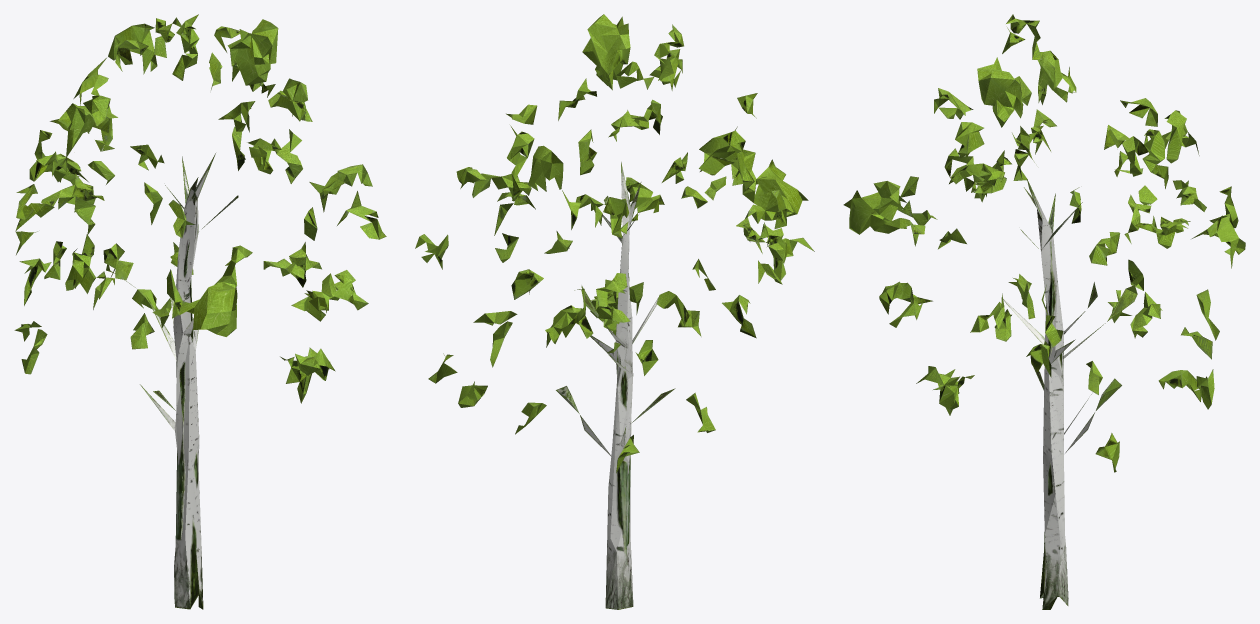
File: tree_birch.glb
3 views of the same model, side by side, from view 1: azimuth 30°, elevation 25°; view 2: azimuth 150°, elevation 25°; view 3: azimuth 270°, elevation 25° (orthographic). The views are drawn at different scales.
Size of the model in its own units: 1.03 by 1.83 by 1.15.
Materials: 1 (1 with a texture image).
